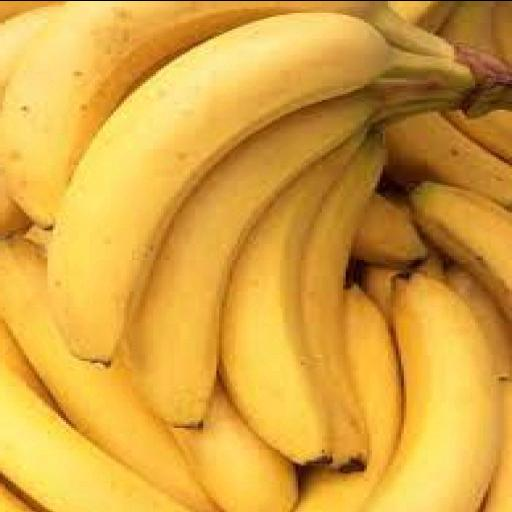banana: (47, 12, 405, 361), (0, 1, 452, 225), (126, 89, 376, 425), (0, 238, 215, 511), (219, 147, 344, 464), (361, 273, 500, 511), (298, 133, 384, 464), (0, 364, 191, 511), (292, 285, 400, 511), (174, 384, 297, 511), (409, 182, 511, 318), (385, 113, 511, 205), (446, 263, 511, 379), (353, 192, 426, 266), (0, 6, 54, 102), (0, 6, 57, 96), (0, 321, 57, 409), (482, 378, 511, 511), (443, 109, 511, 162), (440, 1, 497, 55), (361, 263, 405, 318), (361, 263, 400, 318), (389, 1, 455, 31), (0, 176, 28, 235), (493, 1, 511, 63), (0, 1, 59, 19), (411, 250, 445, 280), (0, 483, 35, 511), (21, 224, 51, 247)
